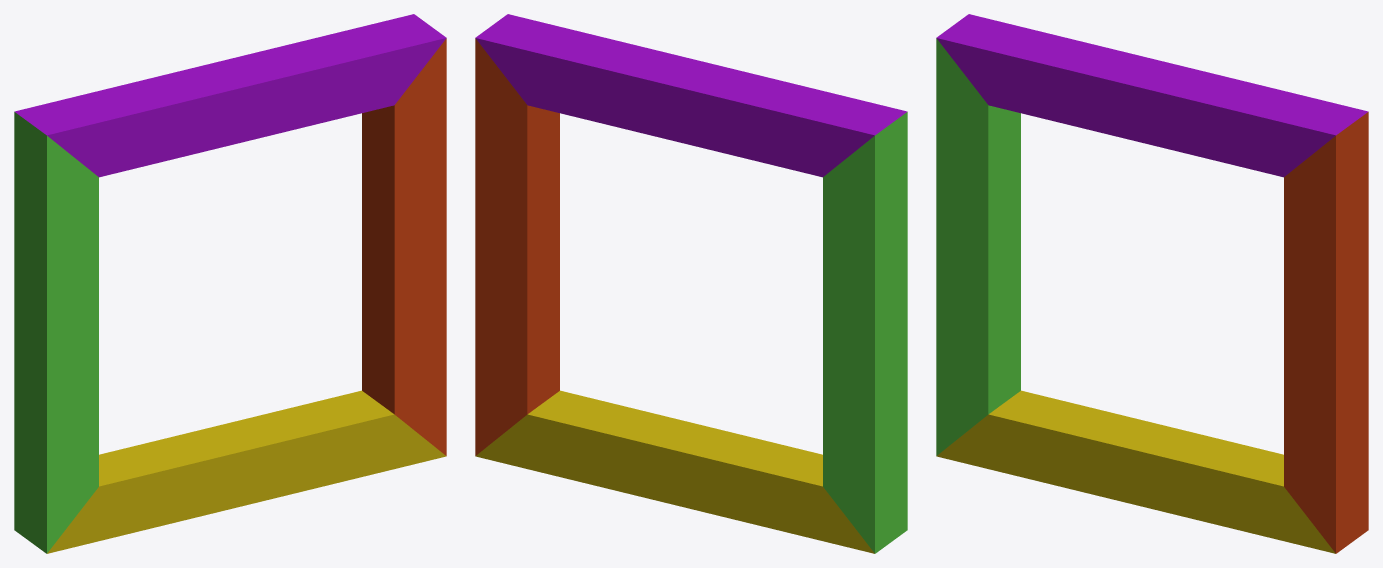
Rendered from ring_chunky_collision.OBJ.
3 renders of one model, left to right at view 1: azimuth 30°, elevation 25°; view 2: azimuth 150°, elevation 25°; view 3: azimuth 330°, elevation 25°, orthographic.
Visible parts, largest first — view 1: ring_chunky_collision; view 2: ring_chunky_collision; view 3: ring_chunky_collision.
Boxes of the visible parts, <box> form: ring_chunky_collision: <box>14,14,446,553</box>; ring_chunky_collision: <box>475,14,907,553</box>; ring_chunky_collision: <box>936,14,1368,553</box>.
Size of the model in its own units: 0.0696 by 0.0696 by 0.00984.
